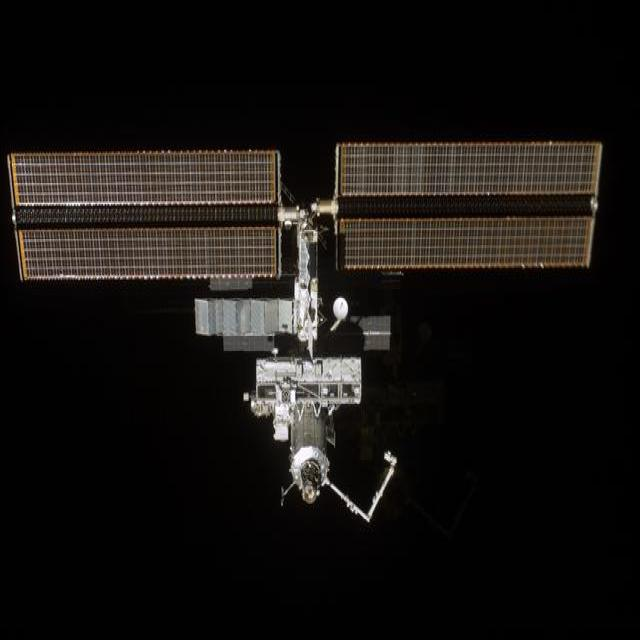medium_debris: (2, 126, 619, 545)
